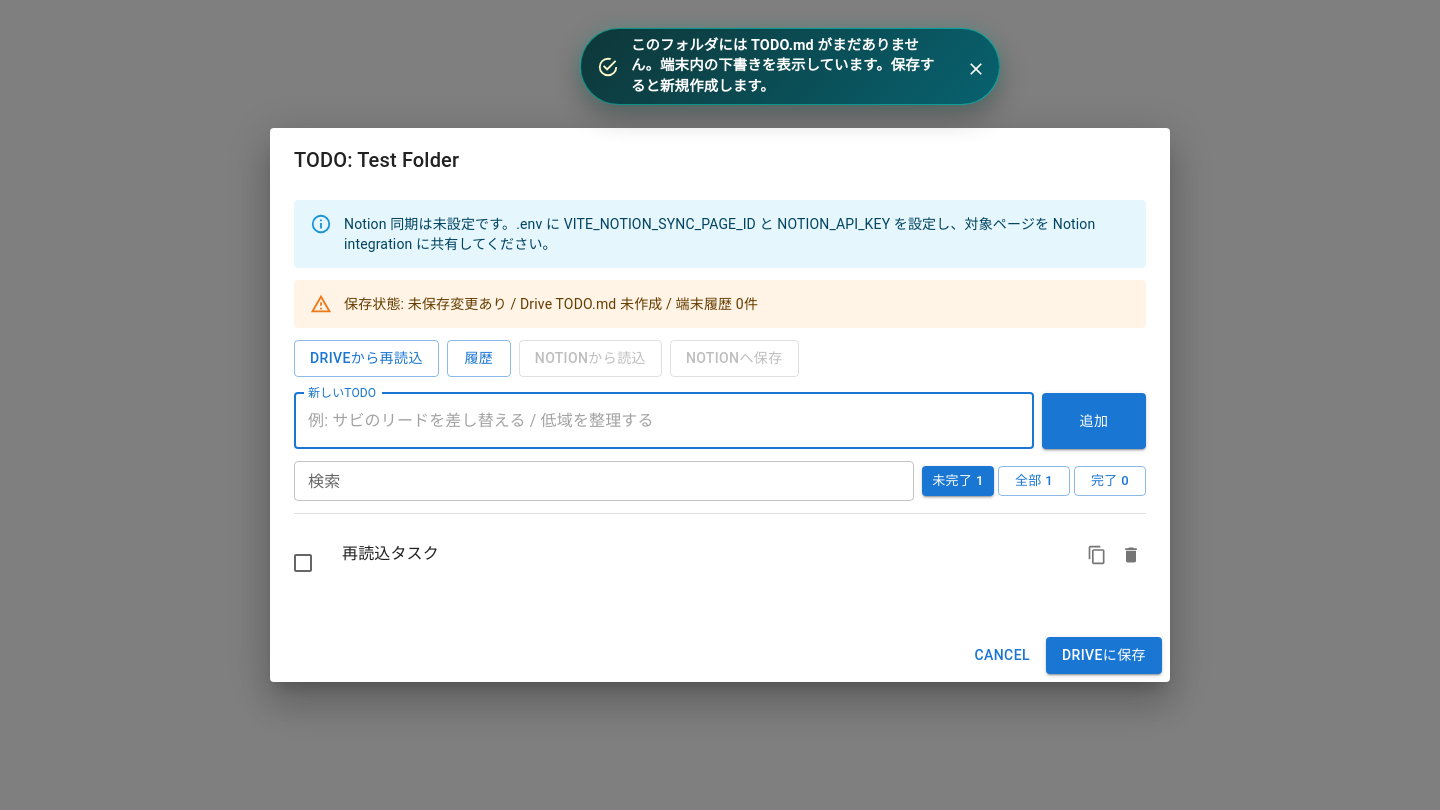
Test: MemoModal › Drive 再読込で TODO.md が無いときも localStorage の下書きを維持する
Expected: the text "再読込タスク" is shown, [342,544,439,562]
Click the button "Driveから再読込" at (366, 359), box [294,340,439,377]
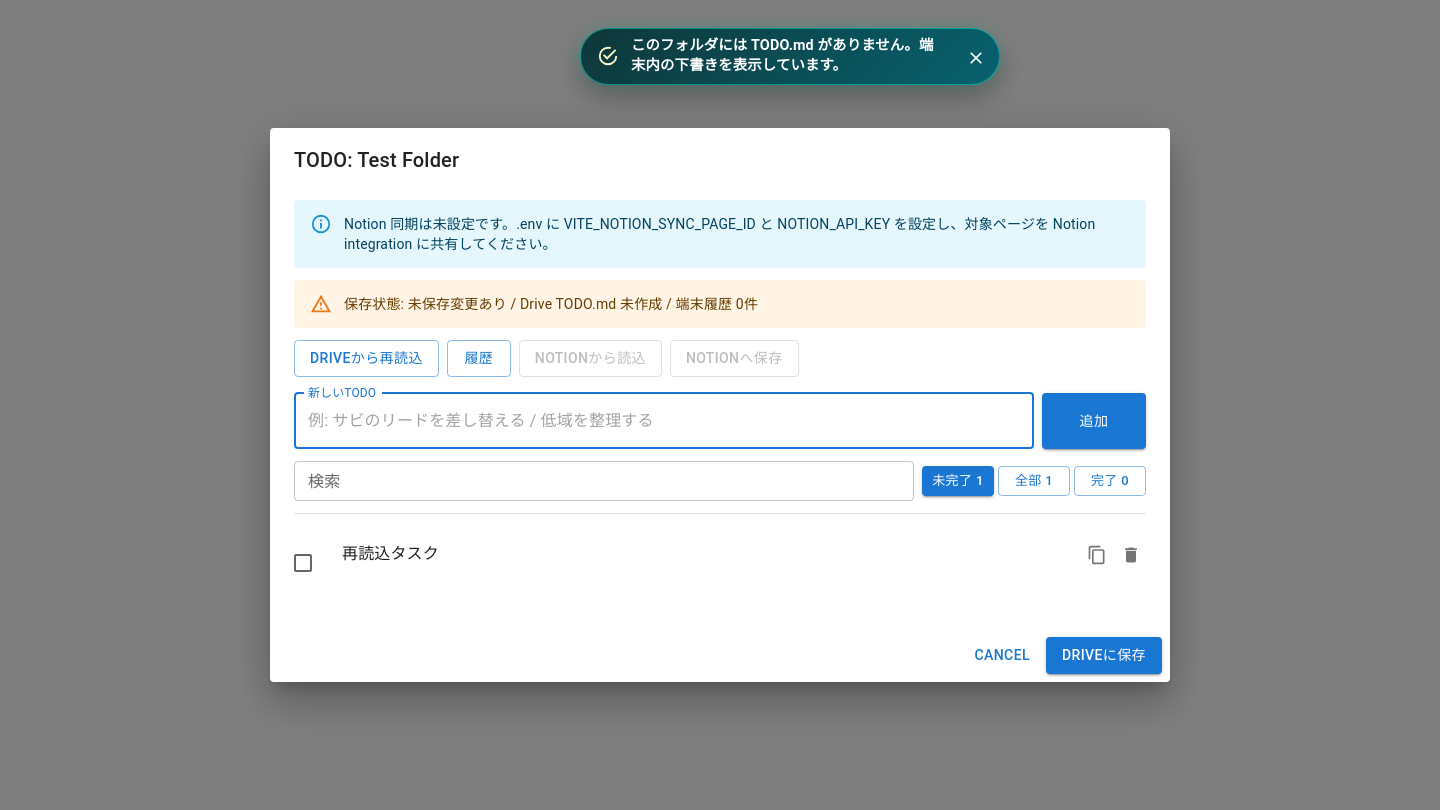
Expected: the text "再読込タスク" is shown, [342,544,439,562]
Expected: the text "このフォルダには TODO.md がありません。端末内の下書きを表示しています。" is shown, [631,35,945,78]
